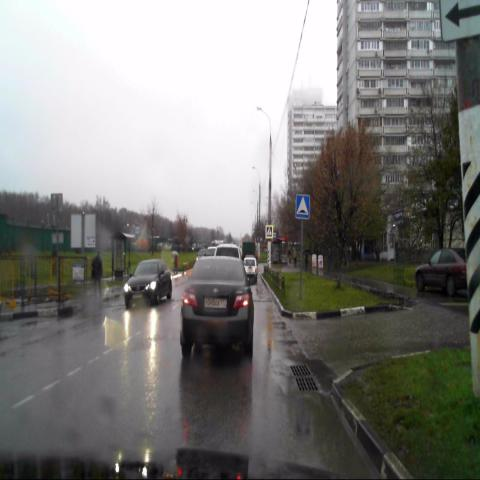5_19_1: (265, 224, 273, 238)
5_20: (296, 194, 310, 219)
